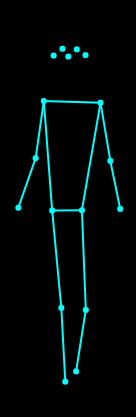mountain: (11, 43, 124, 389)
